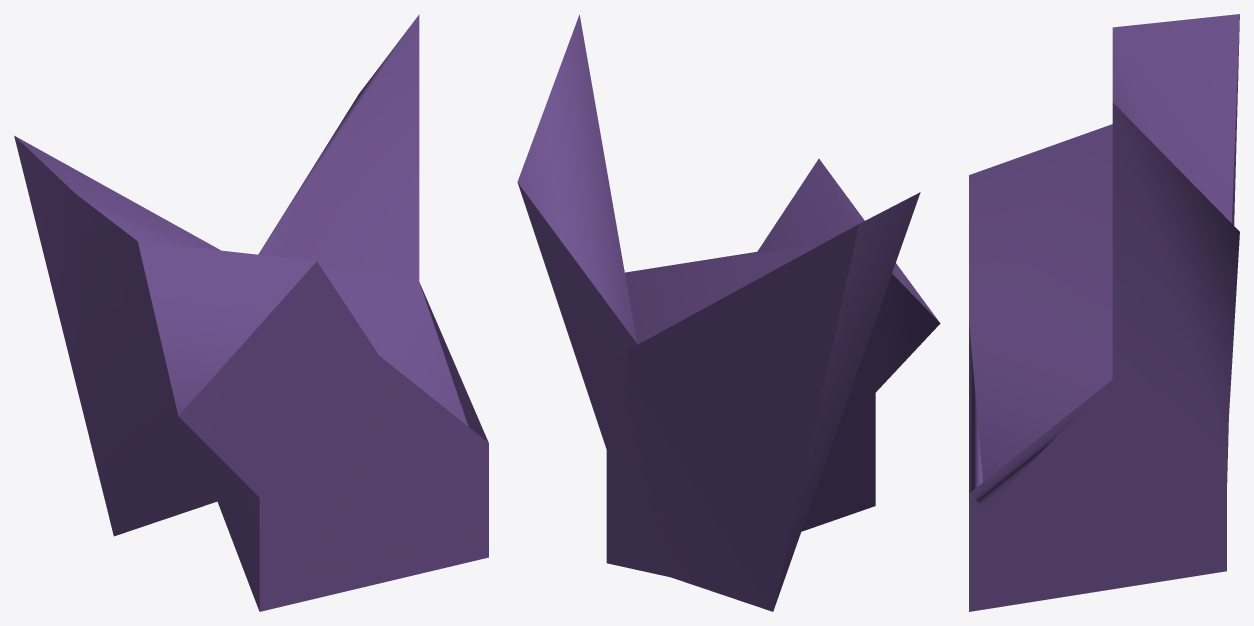
Rendered from CubeTest.fbx.
3 views of the same model, side by side, from view 1: azimuth 30°, elevation 25°; view 2: azimuth 150°, elevation 25°; view 3: azimuth 270°, elevation 25° (orthographic). The views are drawn at different scales.
Parts seen in each view (by area): view 1: pCube1; view 2: pCube1; view 3: pCube1.
Boxes of the visible parts, <box> form: pCube1: <box>14,14,488,611</box>; pCube1: <box>517,14,940,611</box>; pCube1: <box>969,14,1239,611</box>.
Size of the model in its own units: 18.11 by 25.15 by 11.9.
